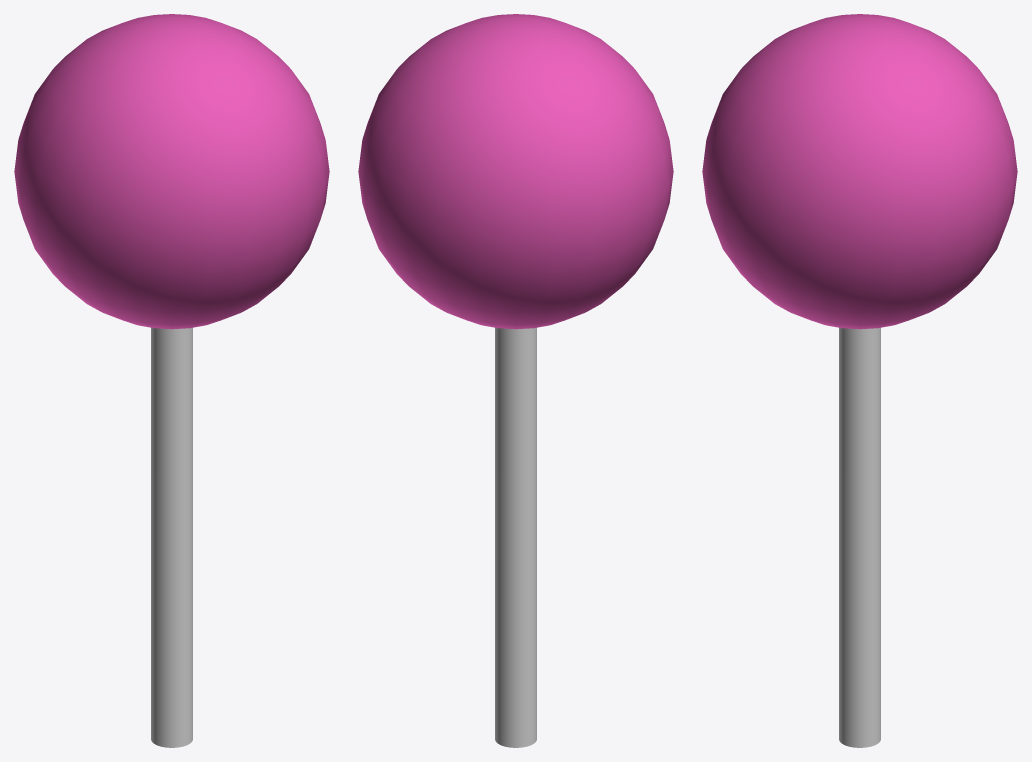
The model's file is Lolipop.fbx.
The picture shows the model from 3 angles, left to right: view 1: azimuth 30°, elevation 25°; view 2: azimuth 150°, elevation 25°; view 3: azimuth 270°, elevation 25°; orthographic projection.
Parts seen in each view (by area): view 1: Lolipop; view 2: Lolipop; view 3: Lolipop.
Part boxes in pixels (x1,y1,x2,y2): Lolipop: (14, 14, 329, 747); Lolipop: (358, 14, 673, 747); Lolipop: (702, 14, 1017, 747).
Bounding box in the file's own units: 0.1151 × 0.2862 × 0.1151.
